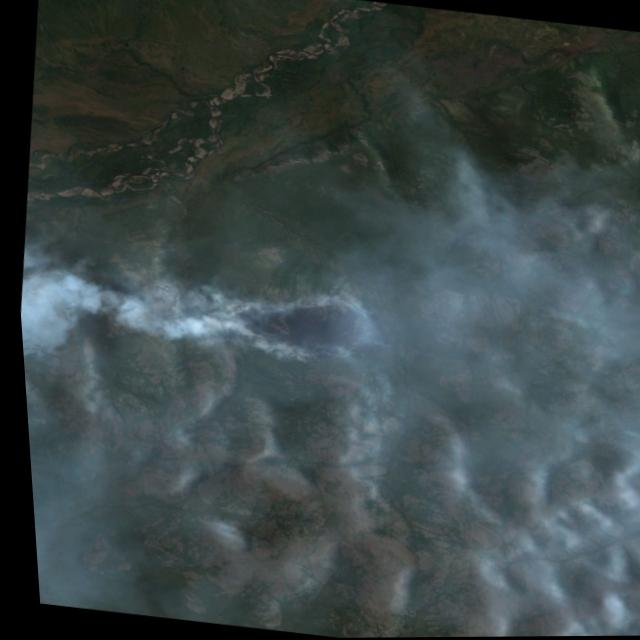fire: (196, 274, 405, 381)
